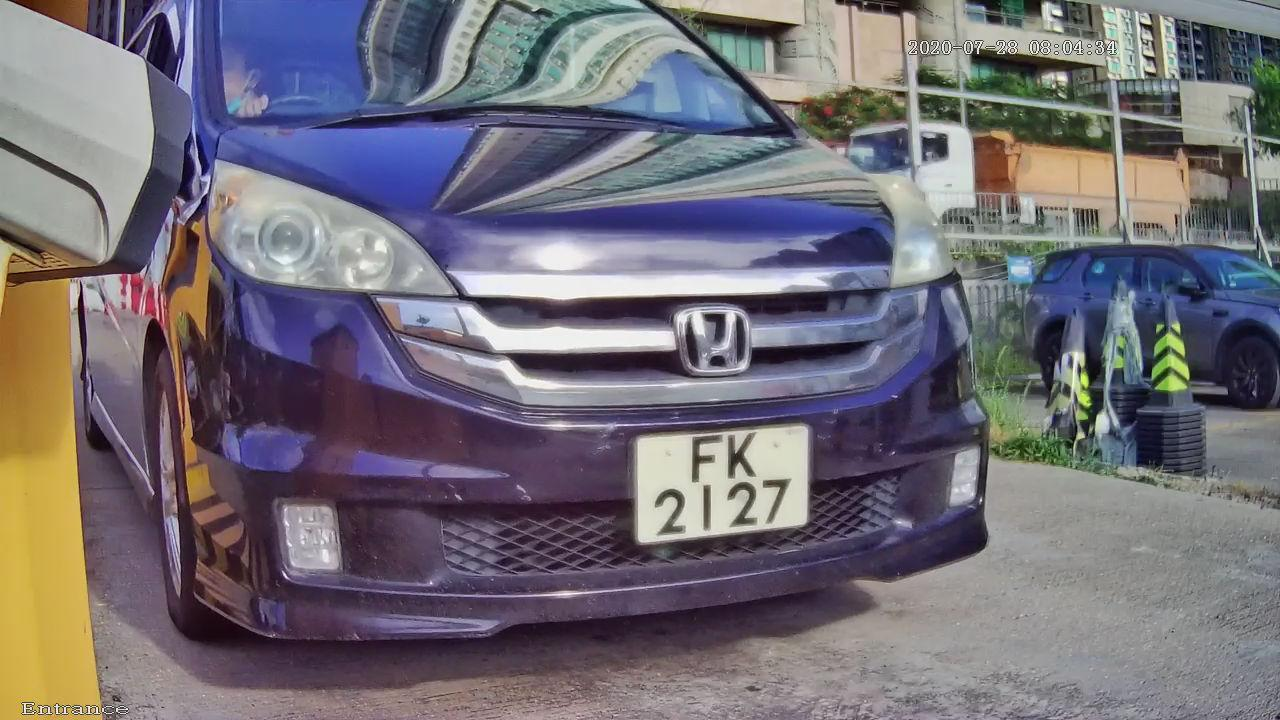privatecar: (18, 17, 1149, 704)
